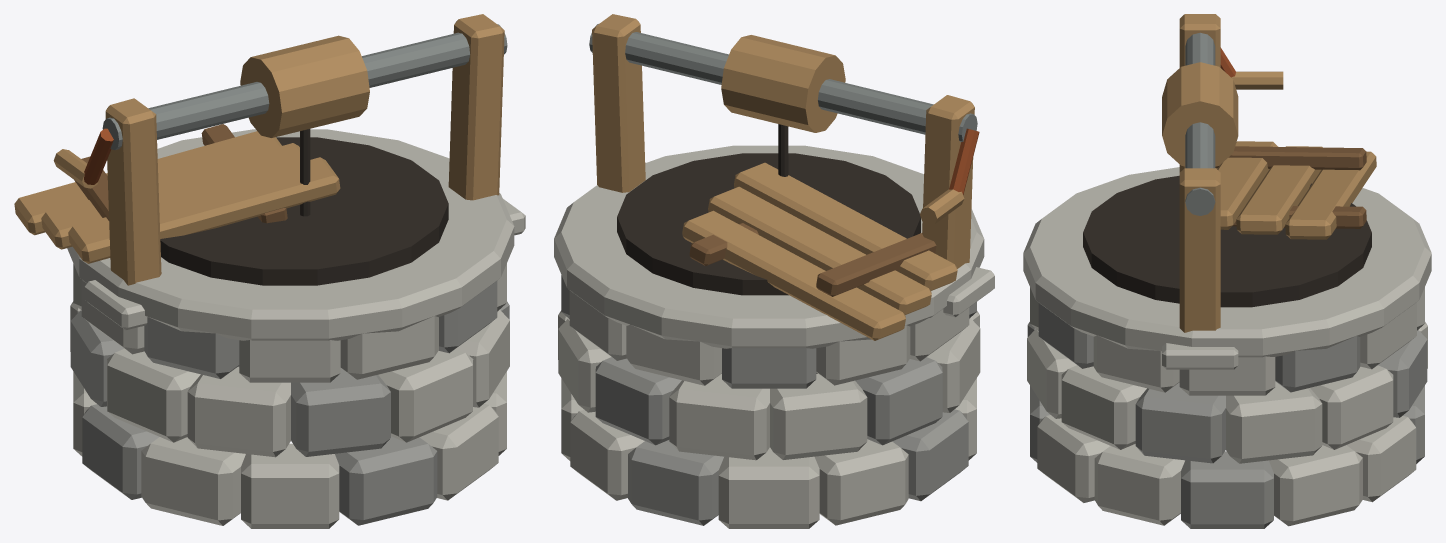
The model's file is well.glb.
3 renders of one model, left to right at view 1: azimuth 30°, elevation 25°; view 2: azimuth 150°, elevation 25°; view 3: azimuth 270°, elevation 25°, orthographic. The views are drawn at different scales.
Visible parts, largest first — view 1: well; view 2: well; view 3: well.
Part boxes in pixels (x1,y1,x2,y2): well: (14, 14, 525, 528); well: (554, 14, 994, 528); well: (1023, 14, 1431, 528).
Size of the model in its own units: 1.57 by 1.49 by 1.5.
